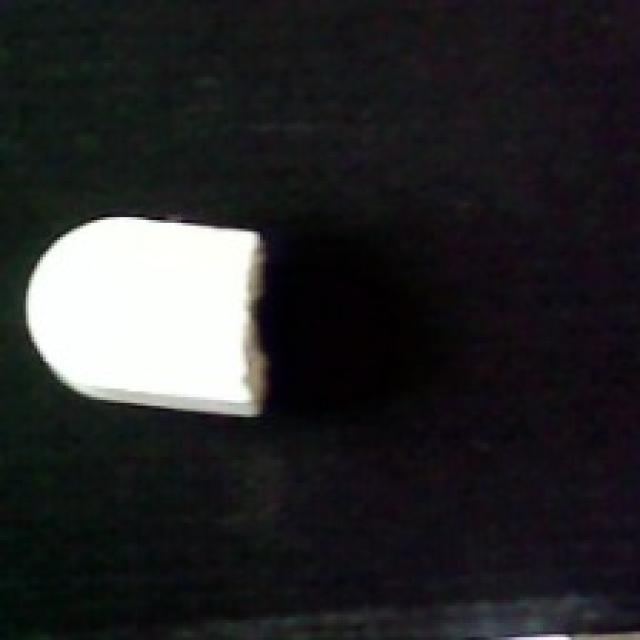defected: (20, 203, 280, 423)
